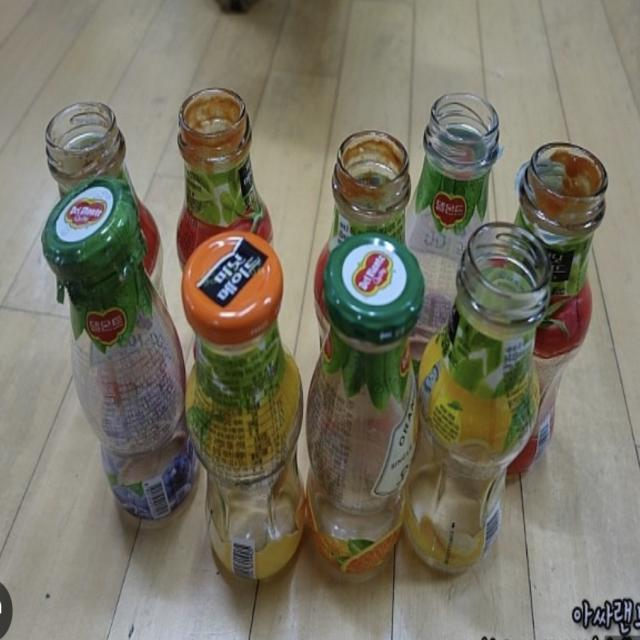recyclable: (33, 168, 198, 530), (170, 208, 315, 608), (409, 205, 553, 596), (308, 225, 423, 606)
